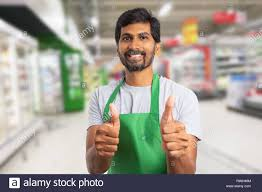Indian_Male: (116, 10, 160, 72)
